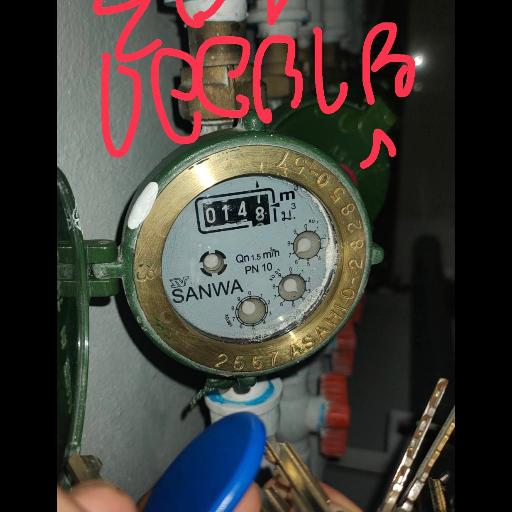0: (202, 201, 220, 228)
1: (217, 199, 236, 226)
4: (232, 197, 253, 224)
8: (249, 194, 271, 227)
border_water_meter_number: (193, 187, 279, 234)
